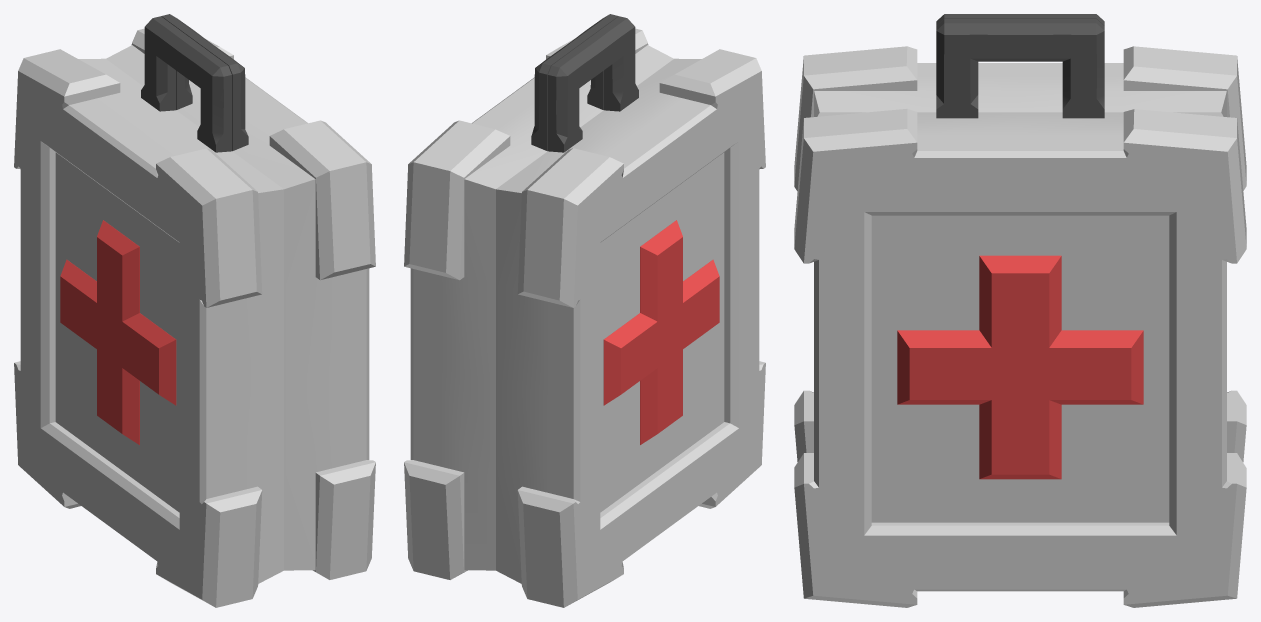
File: Salkku 1.fbx
3 renders of one model, left to right at view 1: azimuth 30°, elevation 25°; view 2: azimuth 150°, elevation 25°; view 3: azimuth 270°, elevation 25°, orthographic. The views are drawn at different scales.
Parts seen in each view (by area): view 1: Salkku_R, Salkku_L, Plus_R, Kahva_R, Kahva_L; view 2: Salkku_R, Salkku_L, Plus_R, Kahva_R, Kahva_L; view 3: Salkku_L, Plus_L, Salkku_R, Kahva_L, Kahva_R.
Part boxes in pixels (left/top/right/bottom): Salkku_R: left=14, top=49, right=283, bottom=607; Salkku_L: left=106, top=28, right=375, bottom=579; Plus_R: left=60, top=220, right=176, bottom=444; Kahva_R: left=141, top=16, right=231, bottom=152; Kahva_L: left=161, top=14, right=248, bottom=151; Salkku_R: left=496, top=49, right=765, bottom=607; Salkku_L: left=404, top=28, right=673, bottom=579; Plus_R: left=603, top=220, right=719, bottom=444; Kahva_R: left=548, top=16, right=638, bottom=152; Kahva_L: left=531, top=14, right=618, bottom=151; Salkku_L: left=794, top=109, right=1246, bottom=607; Plus_L: left=897, top=255, right=1143, bottom=479; Salkku_R: left=794, top=46, right=1246, bottom=462; Kahva_L: left=936, top=19, right=1104, bottom=118; Kahva_R: left=936, top=14, right=1104, bottom=25.
Size of the model in its own units: 0.5375 by 1.47 by 1.1.
